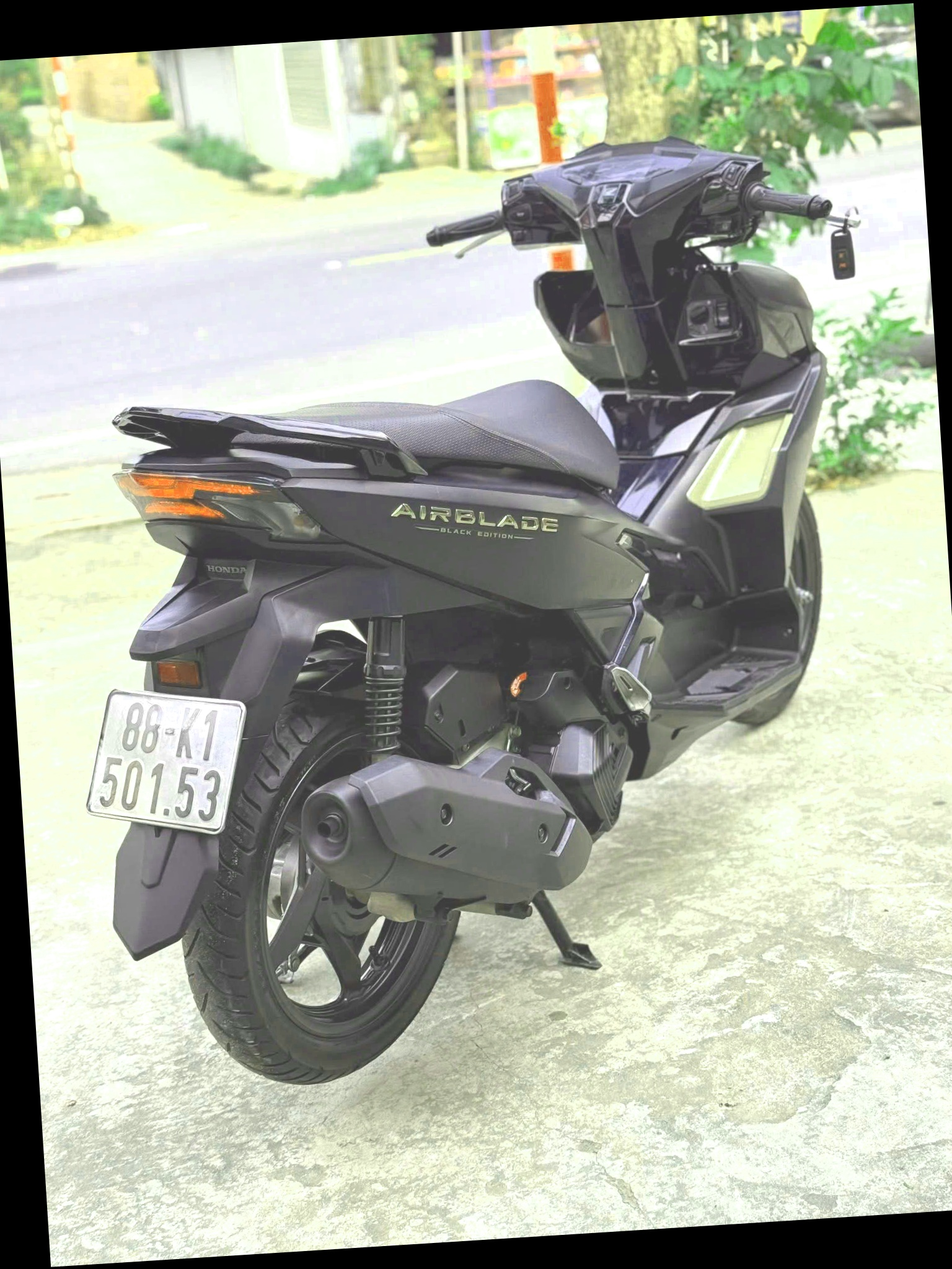Bien-so: (76, 675, 266, 853)
